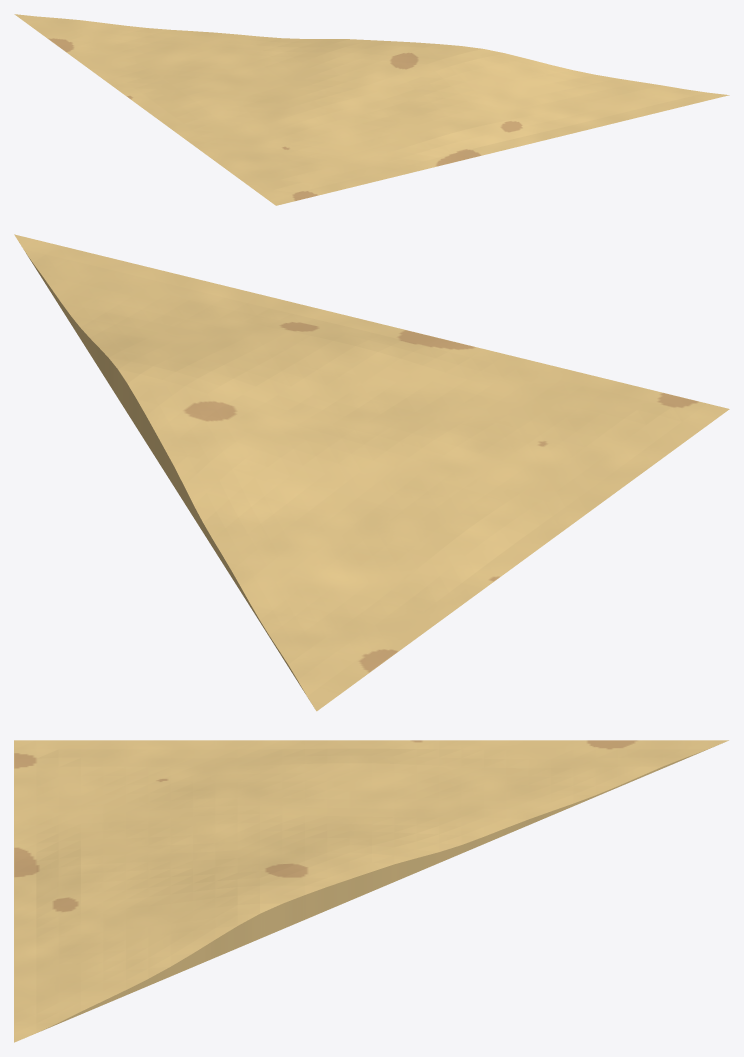
The model's file is Desert_Flat_10_NW.obj.
3 views of the same model, one above another, from view 1: azimuth 30°, elevation 25°; view 2: azimuth 150°, elevation 25°; view 3: azimuth 270°, elevation 25° (orthographic). The views are drawn at different scales.
Size of the model in its own units: 10 by 0.3977 by 10.
1 material, 1 textured.
